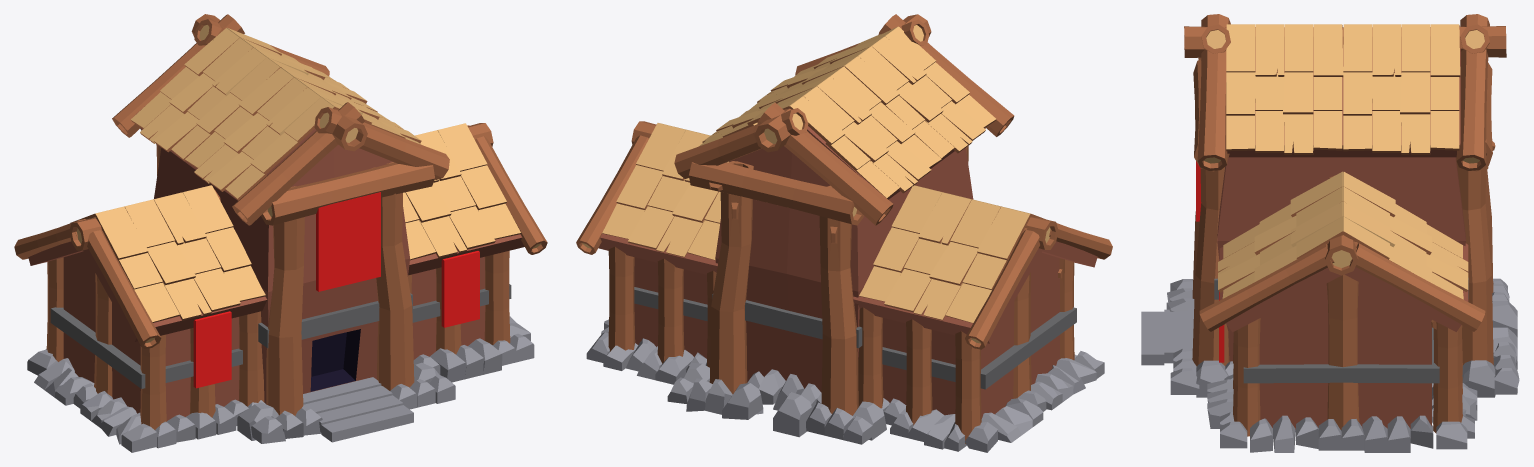
Rendered from Orc-ClanHall.fbx.
3 views of the same model, side by side, from view 1: azimuth 30°, elevation 25°; view 2: azimuth 150°, elevation 25°; view 3: azimuth 270°, elevation 25° (orthographic). The views are drawn at different scales.
Visible parts, largest first — view 1: OrcBase-Wall, OrcBase, OrcHouse-Shingles.001, OrcBase-Stone, OrcHouse-Shingles.003, OrcBase-Flags, OrcHouse-Shingles.002; view 2: OrcBase-Wall, OrcBase, OrcHouse-Shingles.001, OrcBase-Stone, OrcHouse-Shingles.003, OrcHouse-Shingles.002; view 3: OrcBase-Wall, OrcBase, OrcHouse-Shingles.001, OrcBase-Stone, OrcHouse-Shingles.002, OrcBase-Flags.
Part boxes in pixels (box(x1,y1,x2,y2)): OrcBase-Wall: box(14, 14, 547, 429); OrcBase: box(28, 106, 524, 420); OrcHouse-Shingles.001: box(130, 27, 421, 200); OrcBase-Stone: box(27, 316, 534, 452); OrcHouse-Shingles.003: box(70, 185, 265, 322); OrcBase-Flags: box(193, 192, 479, 388); OrcHouse-Shingles.002: box(403, 123, 520, 260); OrcBase-Wall: box(576, 14, 1112, 443); OrcBase: box(598, 126, 1097, 418); OrcHouse-Shingles.001: box(699, 26, 996, 198); OrcBase-Stone: box(586, 319, 1104, 452); OrcHouse-Shingles.003: box(859, 185, 1045, 322); OrcHouse-Shingles.002: box(602, 123, 728, 260); OrcBase-Wall: box(1184, 14, 1506, 436); OrcBase: box(1214, 48, 1468, 429); OrcHouse-Shingles.001: box(1226, 24, 1460, 154); OrcBase-Stone: box(1141, 278, 1519, 452); OrcHouse-Shingles.002: box(1218, 171, 1468, 299); OrcBase-Flags: box(1196, 161, 1224, 362).
Bounding box in the file's own units: 45.19 × 31.92 × 32.99.
